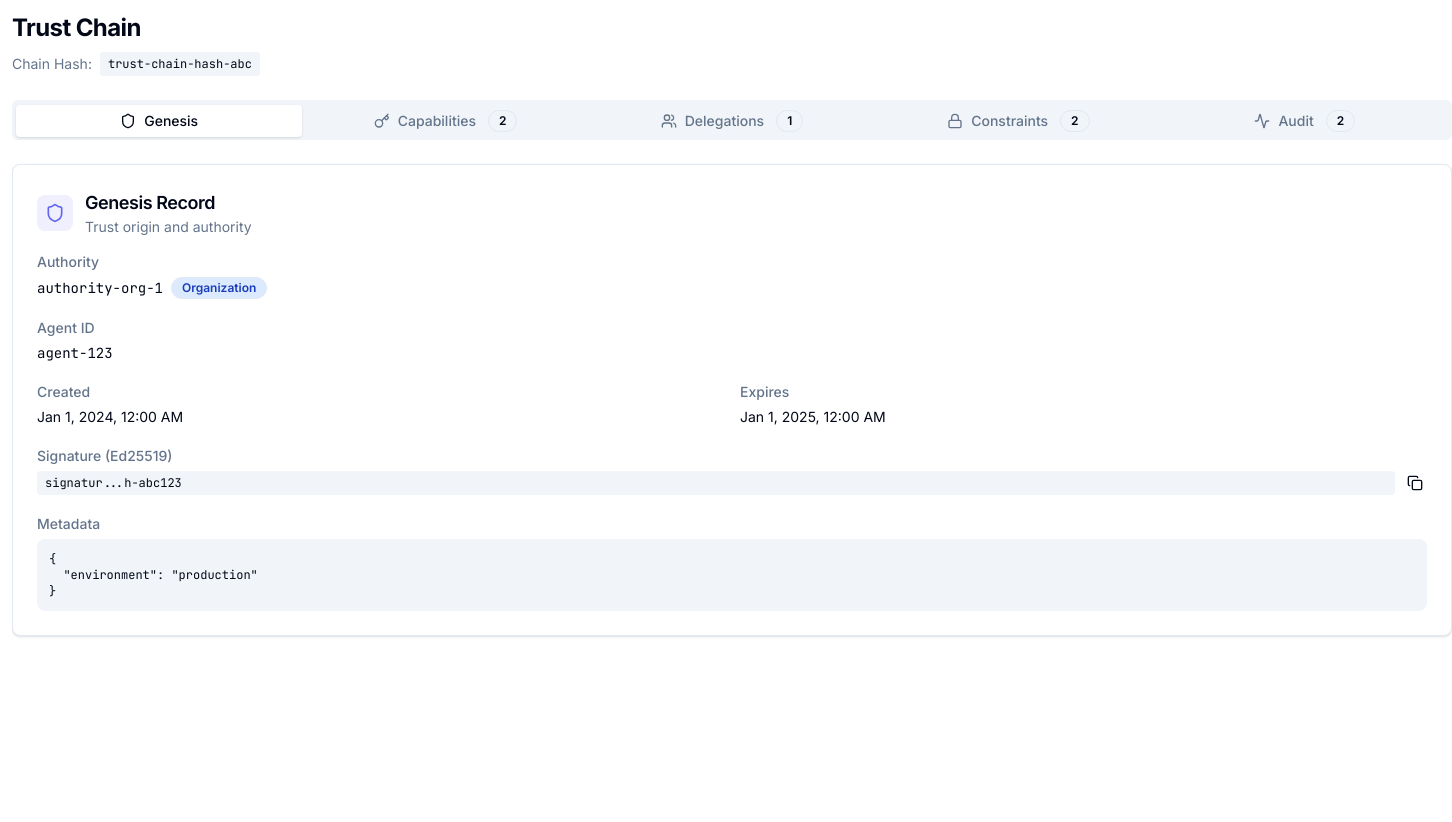
TrustChainViewer › Tab switching › should switch to Delegations tab when clicked
Step 1. Click the tab "Delegations 1" → [732, 121], box [589, 104, 875, 138]
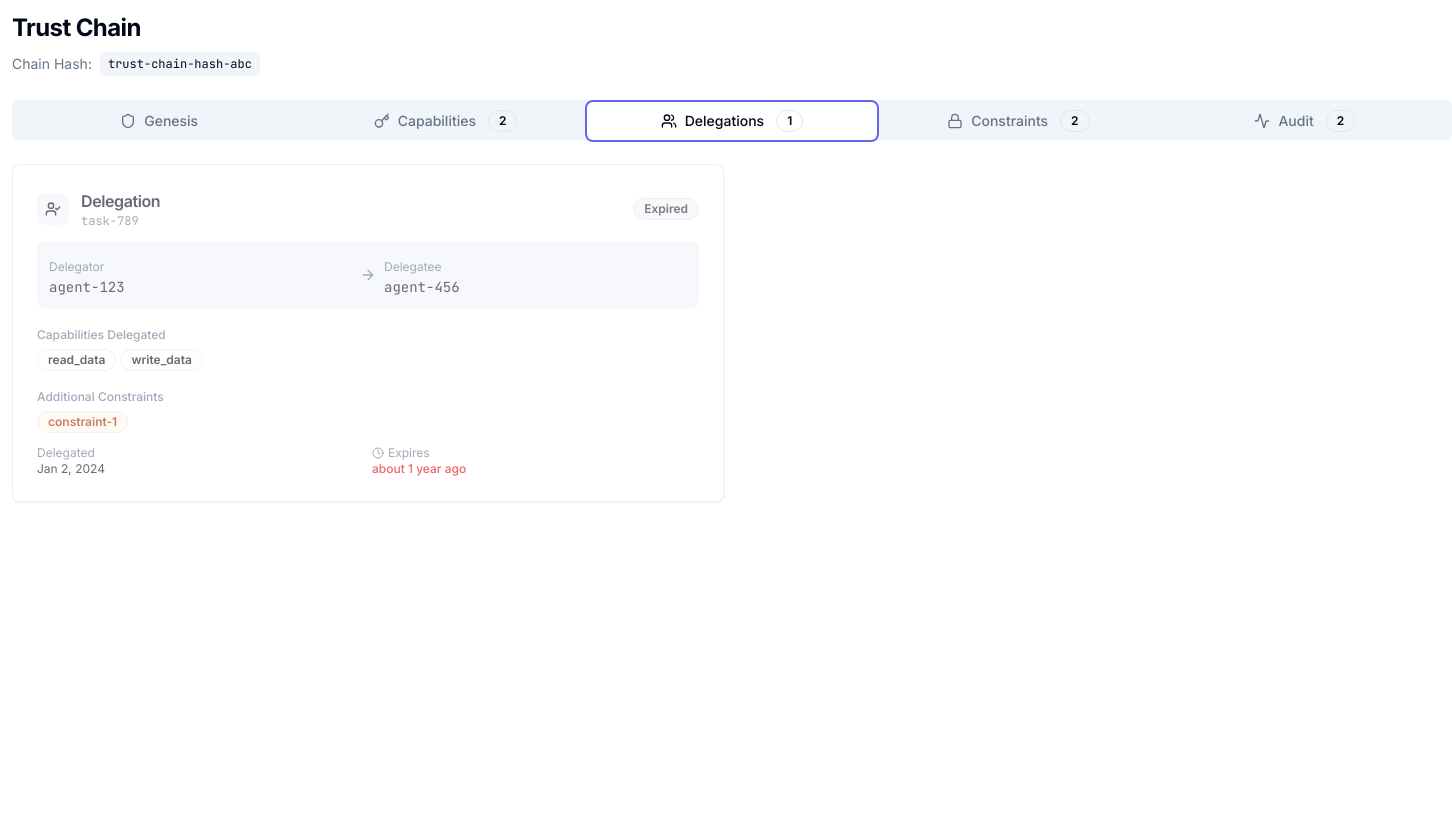
Now the text "agent-456" is shown, box [384, 278, 460, 296]
